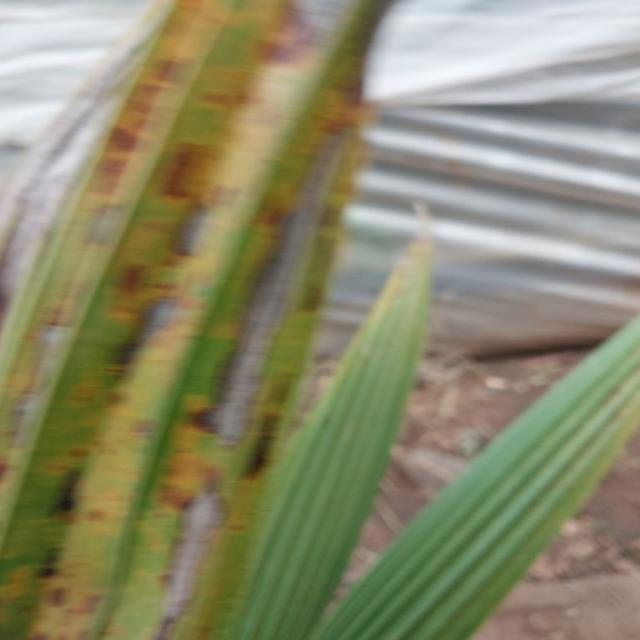gray leaf spot: (2, 4, 395, 640)
